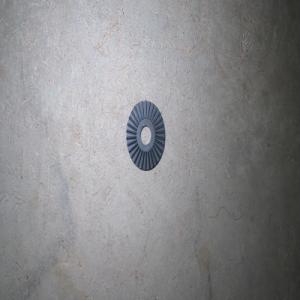Washer: (126, 100, 165, 170)
